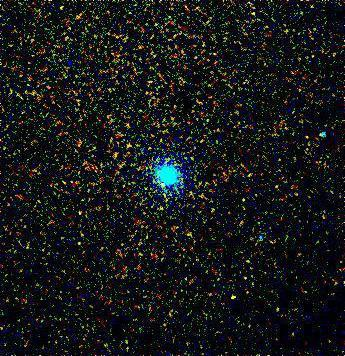star: (147, 172, 177, 202)
